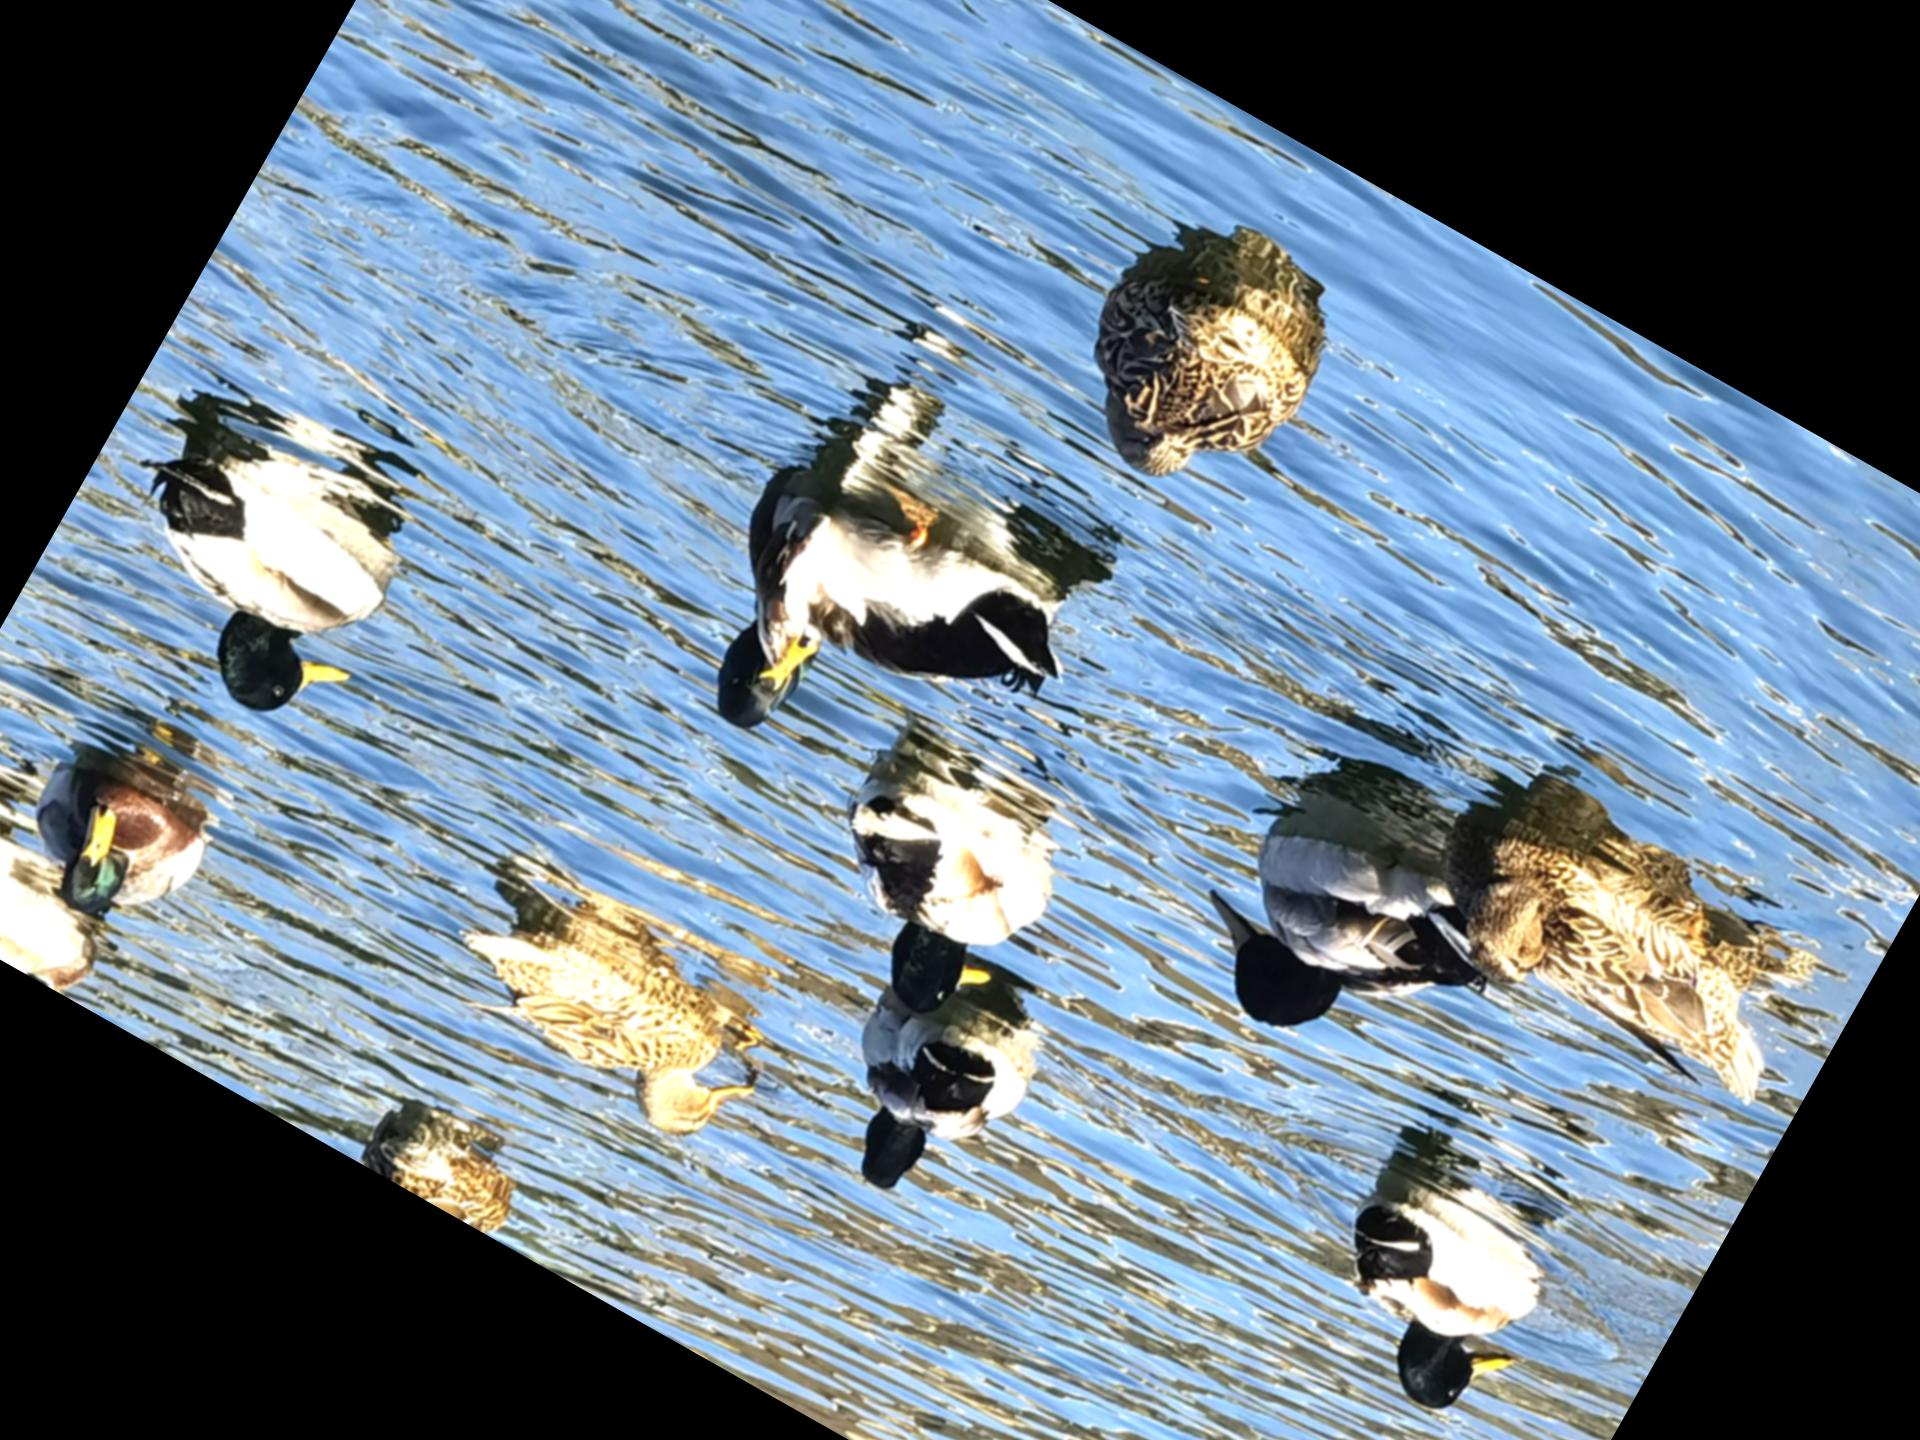duck: (630, 424, 1129, 892), (1418, 776, 1844, 1130), (998, 183, 1373, 551), (60, 407, 437, 759), (1150, 787, 1538, 1128), (416, 871, 795, 1175), (773, 722, 1104, 1054), (1265, 1133, 1581, 1440), (785, 920, 1079, 1243), (0, 726, 242, 982), (346, 1086, 549, 1246)
